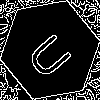U: (25, 25, 81, 82)
